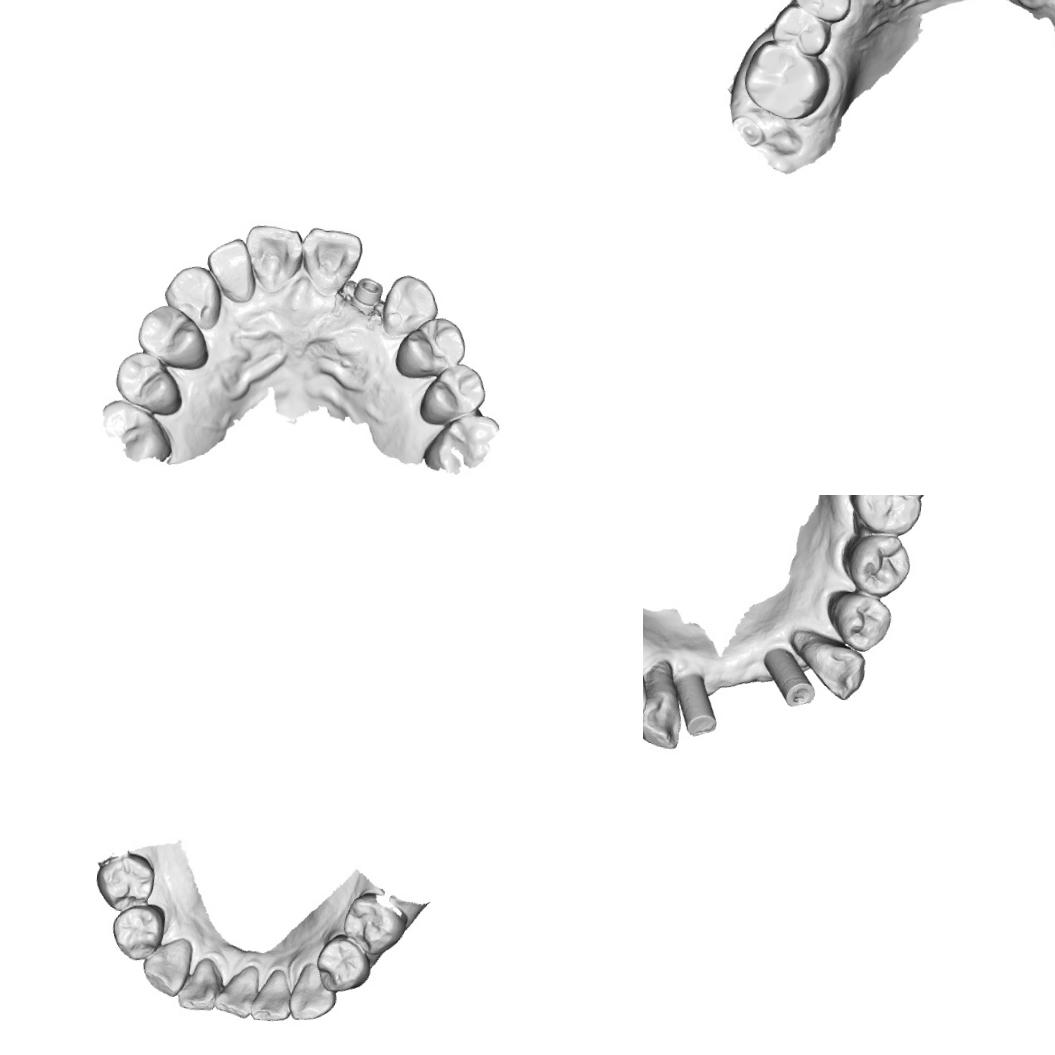canine: (795, 630, 868, 704), (161, 262, 225, 332), (379, 272, 442, 340), (140, 934, 195, 1000), (286, 960, 340, 1024), (643, 682, 688, 752)
implant: (754, 646, 820, 710), (671, 670, 724, 740), (346, 274, 387, 314)
incisor: (298, 225, 364, 294), (241, 221, 306, 291), (201, 234, 261, 304), (212, 960, 260, 1019), (248, 965, 295, 1025), (176, 955, 222, 1013)
molar: (739, 36, 835, 124), (96, 396, 178, 464), (422, 410, 502, 476), (842, 495, 932, 539)
premolar: (134, 302, 214, 373), (392, 313, 468, 384), (417, 358, 490, 430), (112, 349, 187, 418), (841, 529, 914, 599), (340, 889, 410, 958), (824, 588, 892, 652), (92, 849, 157, 914), (768, 1, 835, 61), (314, 931, 375, 995), (109, 900, 168, 963), (789, 0, 855, 26)
